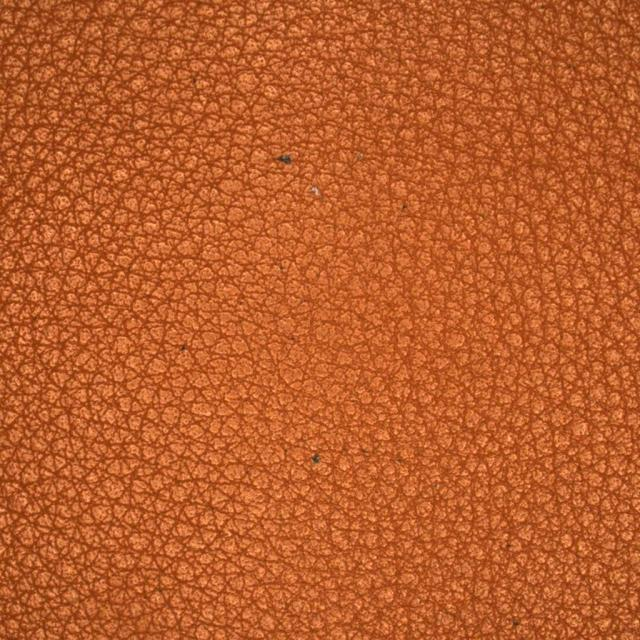Hole: (212, 94, 423, 244), (248, 388, 383, 532)
pinhole: (129, 286, 229, 406)
